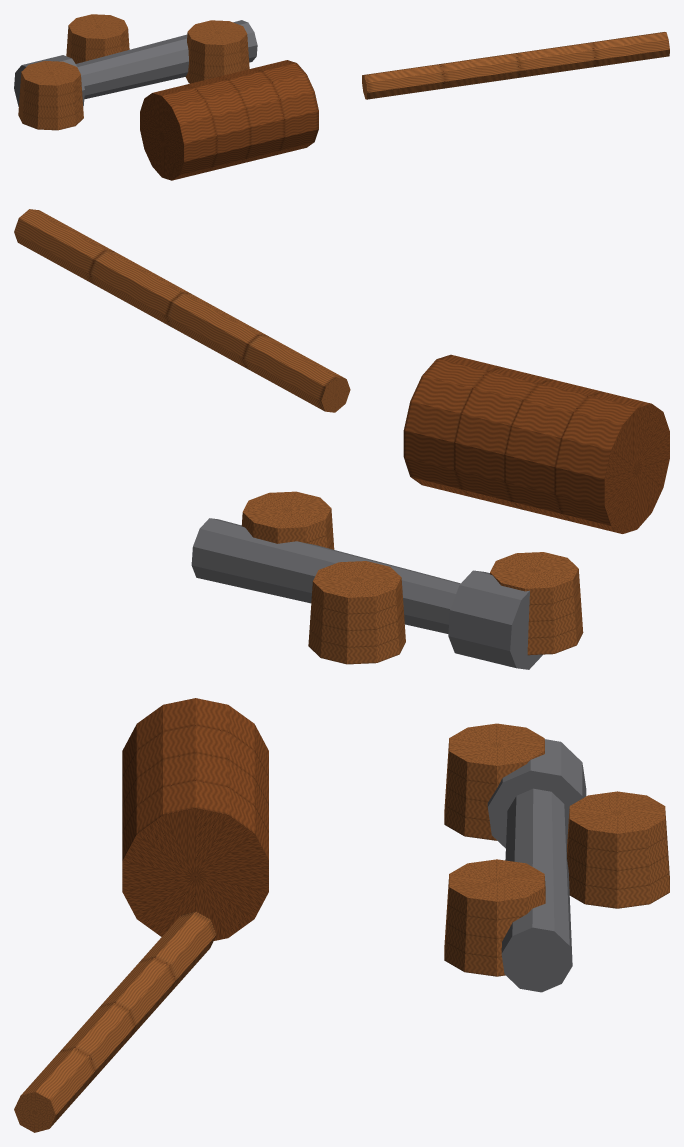
Rendered from distillery-and-bonded-warehouse-bung-mallet-and-driver-3f4a299f__38696.glb.
3 renders of one model, top to bottom at view 1: azimuth 30°, elevation 25°; view 2: azimuth 150°, elevation 25°; view 3: azimuth 270°, elevation 25°, orthographic. The views are drawn at different scales.
Visible parts, largest first — view 1: bung-mallet-and-driver-timber, bung-mallet-and-driver-oak, bung-mallet-and-driver-iron; view 2: bung-mallet-and-driver-oak, bung-mallet-and-driver-timber, bung-mallet-and-driver-iron; view 3: bung-mallet-and-driver-timber, bung-mallet-and-driver-oak, bung-mallet-and-driver-iron.
Part boxes in pixels (left/top/right/bottom): bung-mallet-and-driver-timber: left=18, top=14, right=669, bottom=130; bung-mallet-and-driver-oak: left=140, top=60, right=318, bottom=180; bung-mallet-and-driver-iron: left=14, top=20, right=257, bottom=106; bung-mallet-and-driver-oak: left=403, top=354, right=669, bottom=533; bung-mallet-and-driver-timber: left=14, top=209, right=583, bottom=664; bung-mallet-and-driver-iron: left=191, top=518, right=542, bottom=669; bung-mallet-and-driver-timber: left=14, top=723, right=669, bottom=1132; bung-mallet-and-driver-oak: left=122, top=698, right=268, bottom=940; bung-mallet-and-driver-iron: left=487, top=739, right=586, bottom=992.
Bounding box in the file's own units: 0.9818 × 0.1696 × 0.6533.
3 materials, 2 textured.
